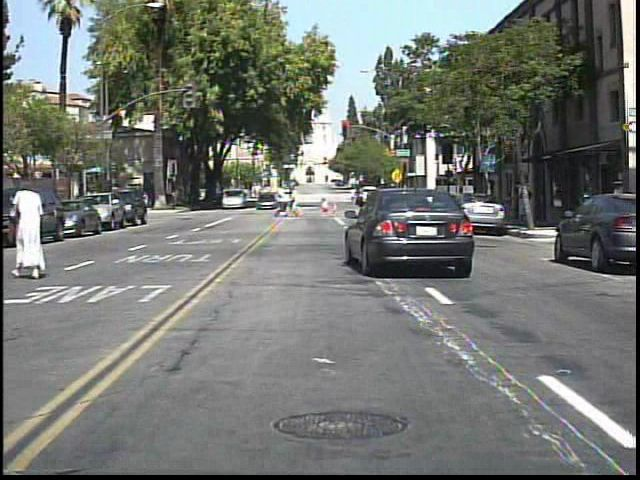person: (18, 183, 58, 281), (515, 175, 539, 228), (288, 183, 306, 221)
